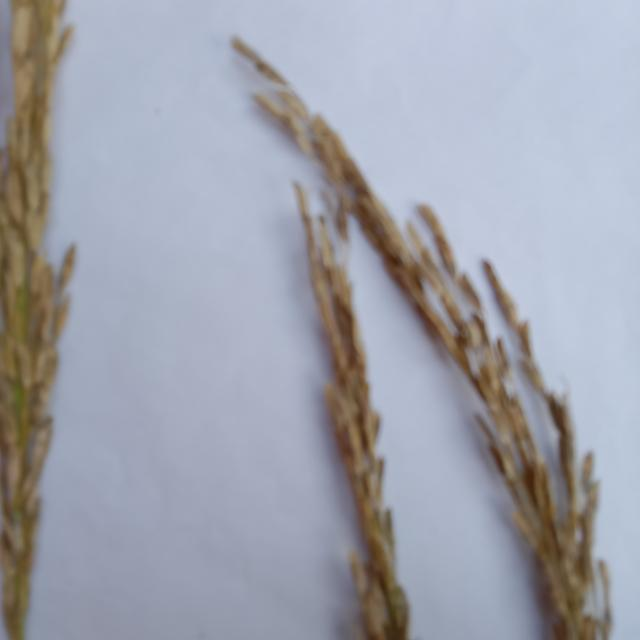Neck_Blast: (260, 93, 592, 635), (0, 2, 65, 640), (306, 245, 405, 638)
